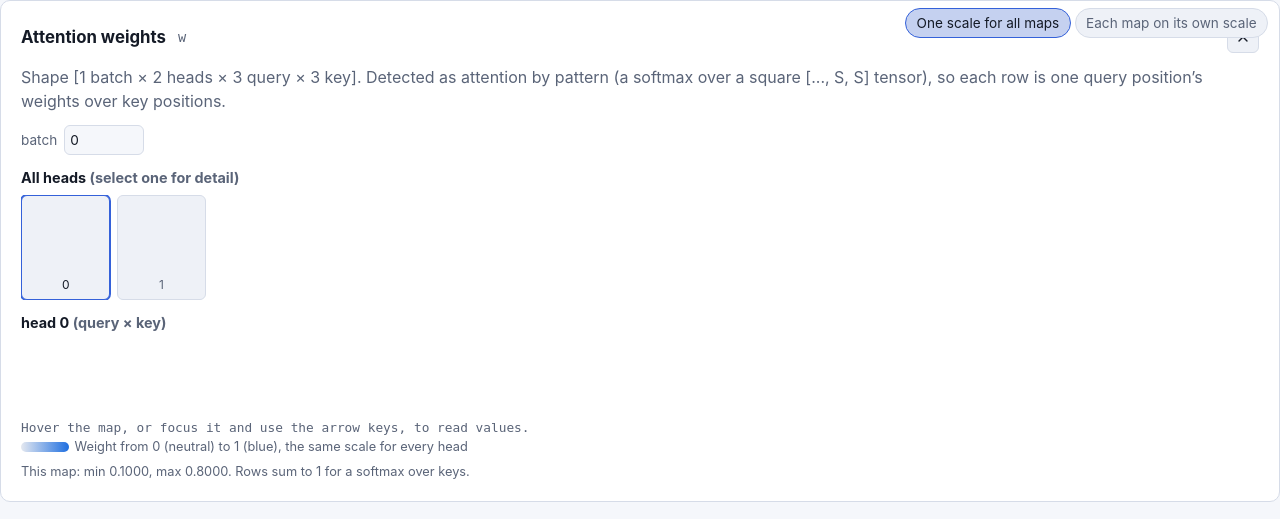
Test case: Feature maps › can scale an attention head to its own largest weight
Expected: the list named "heads overview" is shown, x1=21 y1=195 x2=206 y2=300
Click the button "Each map on its own scale" at x=1171, y=23, box x1=1075 y1=8 x2=1268 y2=38
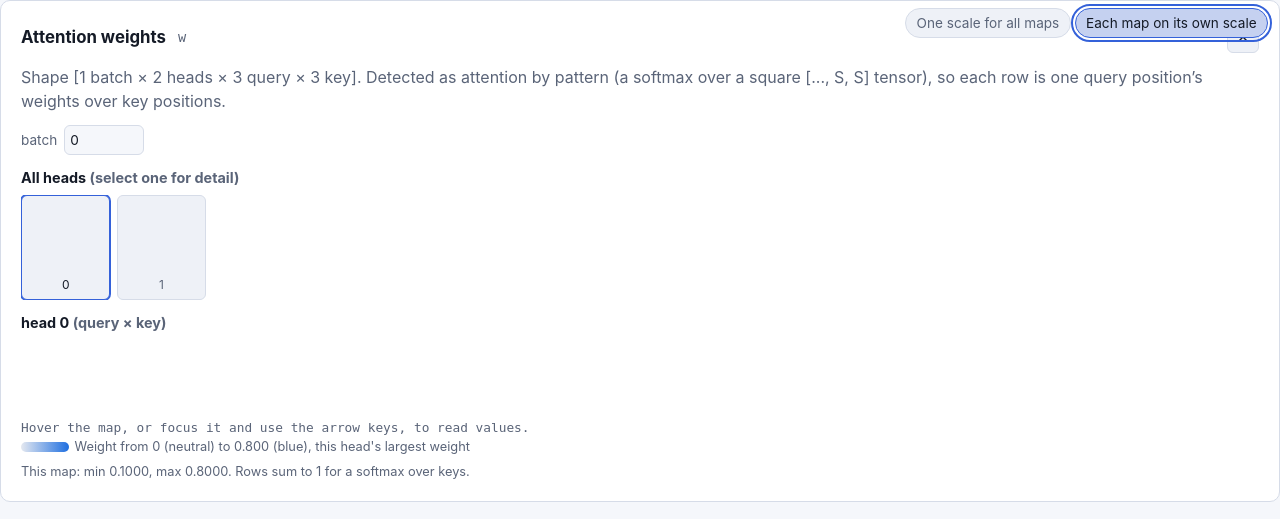
Expected: the element named "Map legend" shows "to 0.800 (blue), this head's largest weight", x1=75 y1=439 x2=470 y2=454
